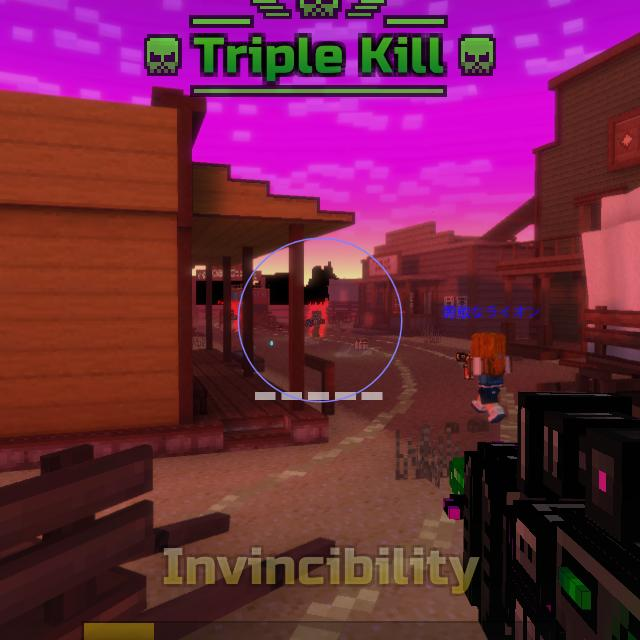Enemy: (305, 310, 325, 338), (231, 309, 238, 332)
